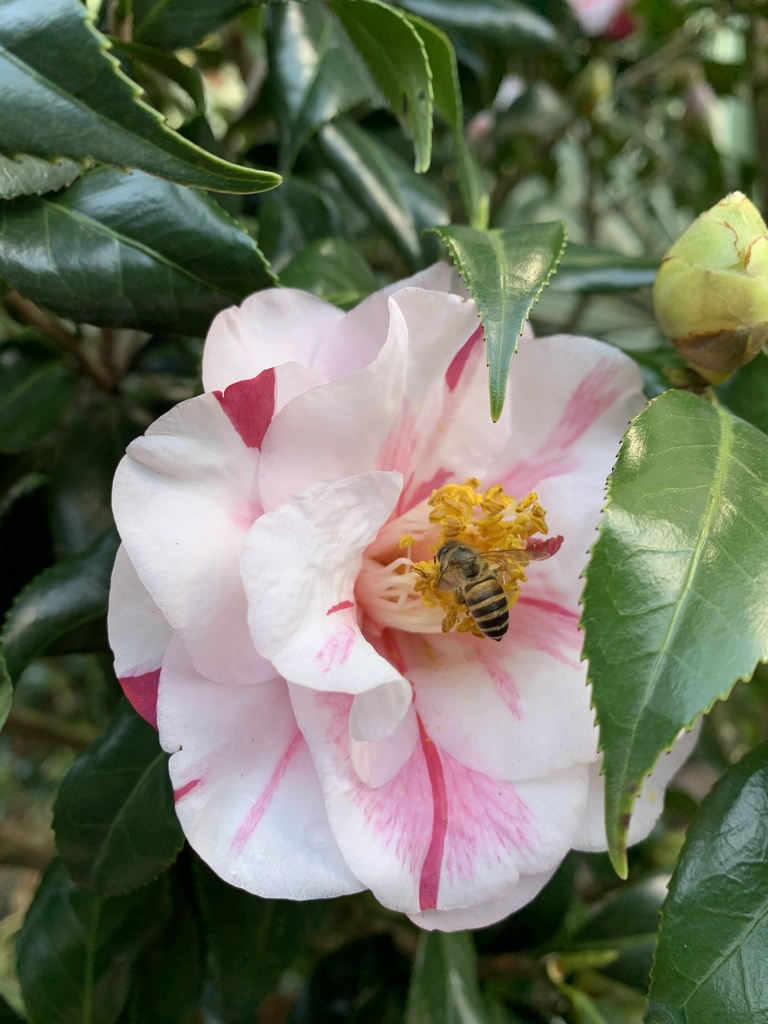not_bumblebee: (433, 538, 515, 645)
